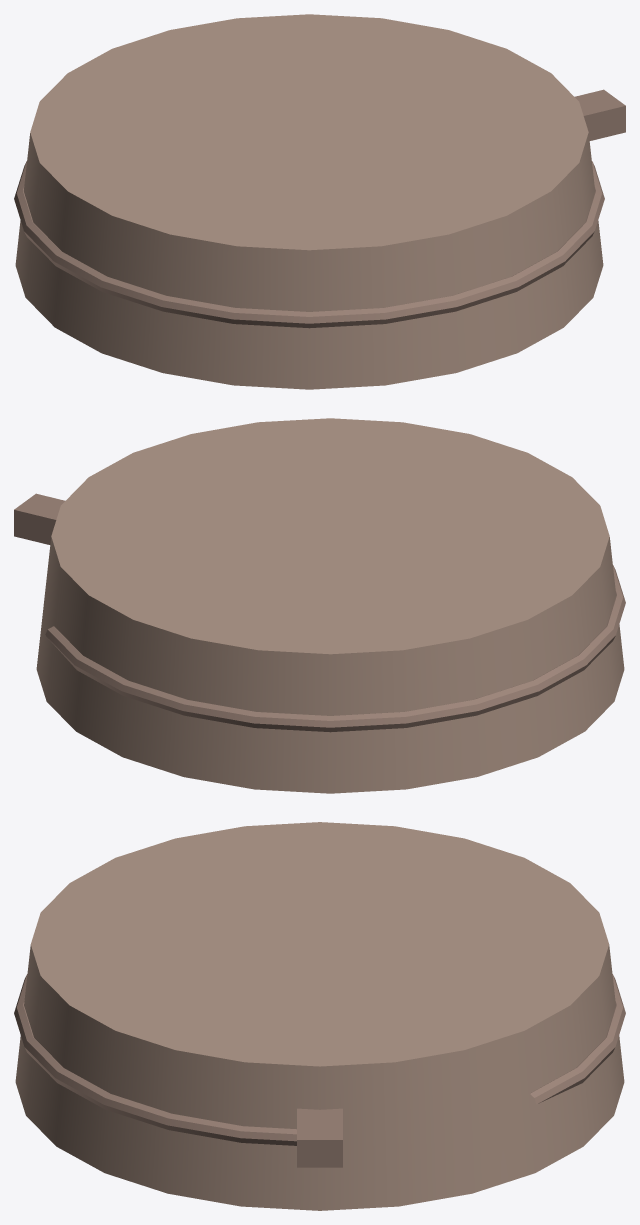
File: bo_doan_tron.glb
3 renders of one model, top to bottom at view 1: azimuth 30°, elevation 25°; view 2: azimuth 150°, elevation 25°; view 3: azimuth 270°, elevation 25°, orthographic. The views are drawn at different scales.
Parts seen in each view (by area): view 1: bo_doan_tron.001; view 2: bo_doan_tron.001; view 3: bo_doan_tron.001.
Part boxes in pixels (x1,y1,x2,y2): bo_doan_tron.001: (14, 14, 625, 389); bo_doan_tron.001: (14, 418, 625, 793); bo_doan_tron.001: (14, 822, 625, 1210).
Bounding box in the file's own units: 0.441 × 0.1 × 0.402.
